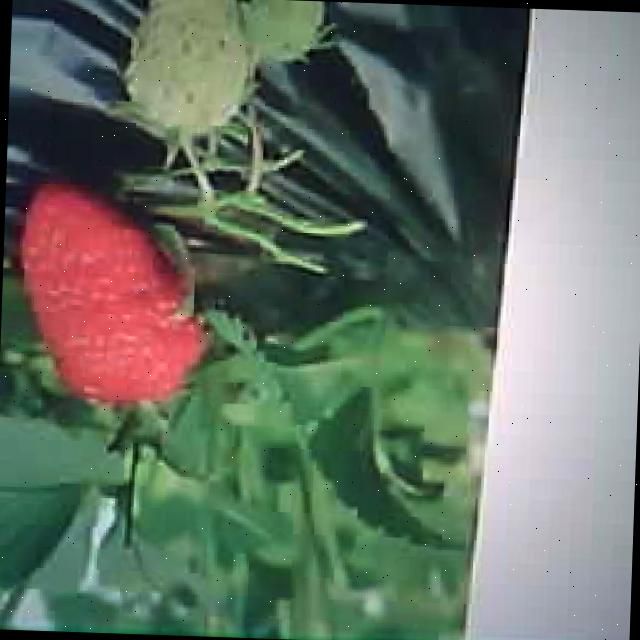strawberry: (15, 184, 204, 406), (125, 0, 252, 139), (241, 0, 325, 61)
